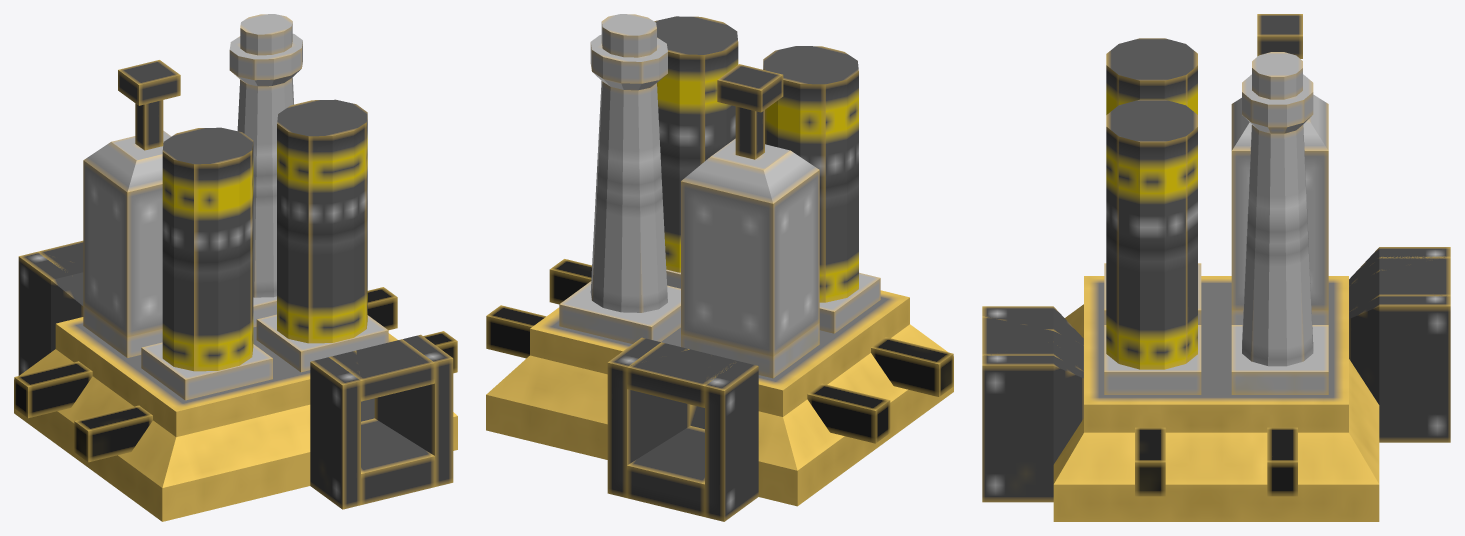
Rendered from chemical_plant.obj.
3 renders of one model, left to right at view 1: azimuth 30°, elevation 25°; view 2: azimuth 150°, elevation 25°; view 3: azimuth 270°, elevation 25°, orthographic. The views are drawn at different scales.
Visible parts, largest first — view 1: mesh; view 2: mesh; view 3: mesh.
Part boxes in pixels (x1,y1,x2,y2): mesh: [14, 14, 457, 521]; mesh: [486, 14, 953, 521]; mesh: [982, 14, 1450, 521].
Size of the model in its own units: 3.5 by 3.38 by 3.5.
